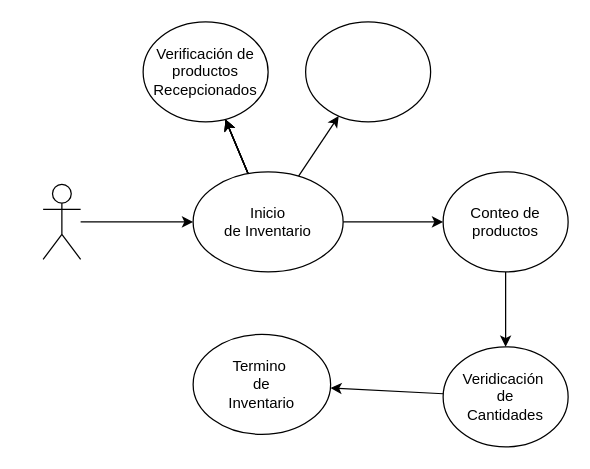
Image size: 590x469. Some labels were removed from this diagram. The centre of each missing label's shape, as x and y in pixels:
"Almacenero" belongs at point 61,221.
"Verificación de productos despachados" belongs at point 367,71.
